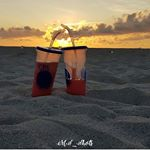cups: (30, 45, 64, 98), (61, 44, 90, 99)
